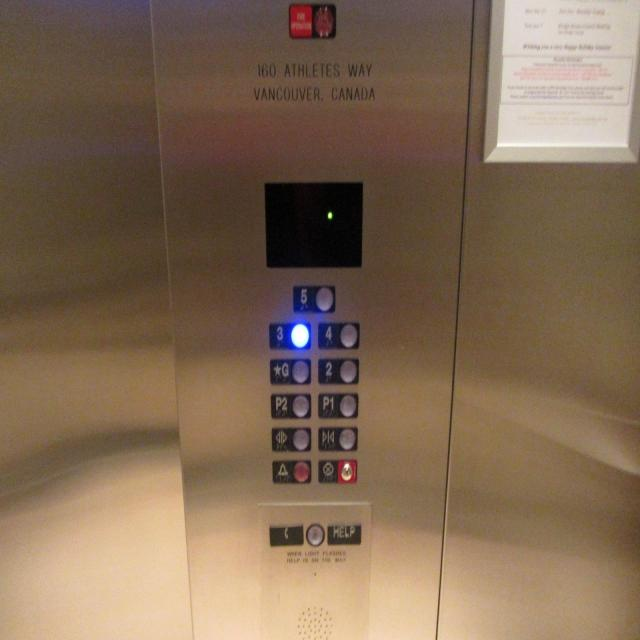2: (317, 356, 360, 385)
3: (268, 319, 312, 352)
4: (317, 320, 361, 350)
5: (291, 282, 336, 314)
P1: (317, 391, 359, 419)
P2: (269, 391, 312, 420)
alarm: (271, 458, 312, 485)
call: (268, 522, 304, 546)
close: (316, 425, 358, 452)
empty: (305, 522, 325, 547)
led: (262, 179, 364, 270)
open: (270, 425, 312, 453)
sG: (268, 356, 312, 385)
stop: (317, 457, 358, 485)
text: (287, 2, 337, 40)
text_help: (326, 521, 362, 547)
